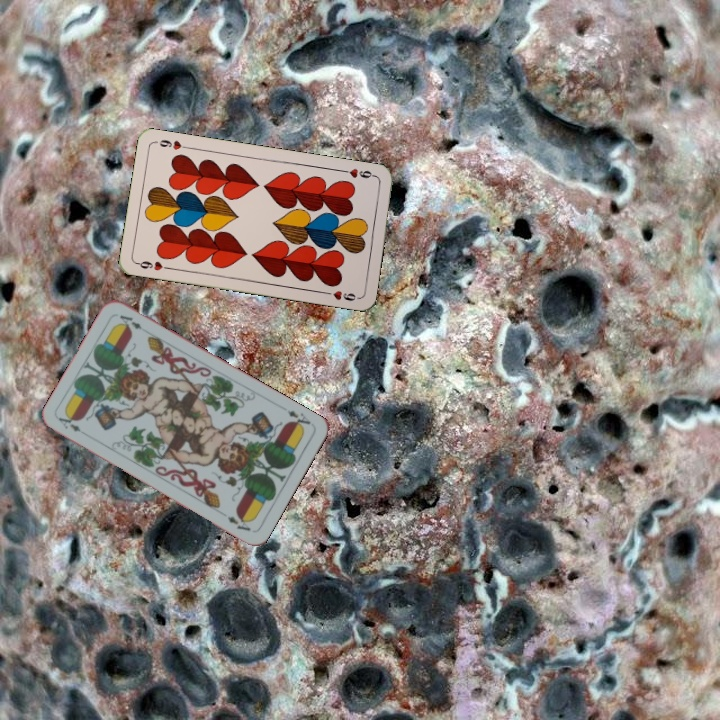EA: (283, 406, 313, 432), (54, 412, 83, 435)
H9: (338, 164, 379, 181), (133, 257, 174, 273)
